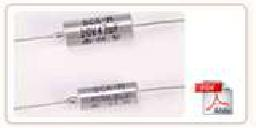Electrolytic Capacitor: (10, 82, 198, 128), (13, 12, 197, 57)
